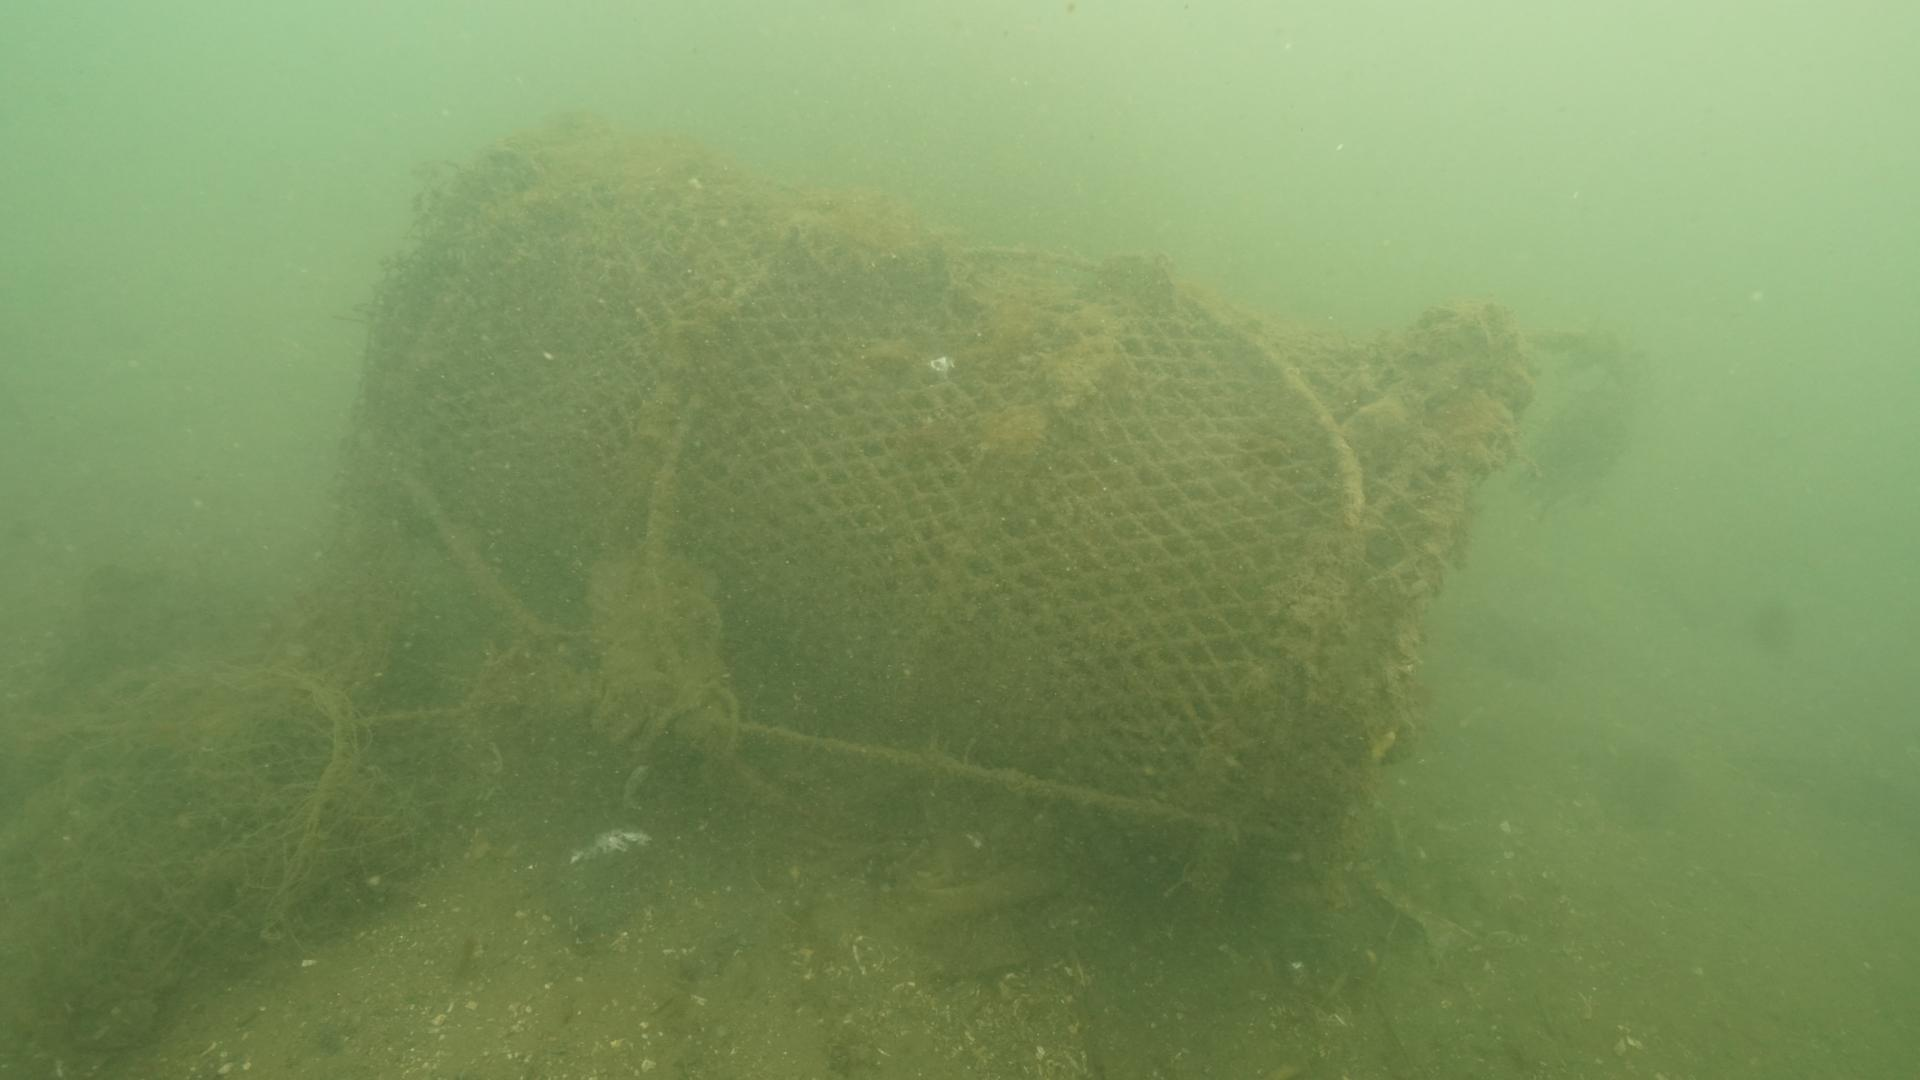spring fish trap: (344, 98, 1535, 920)
